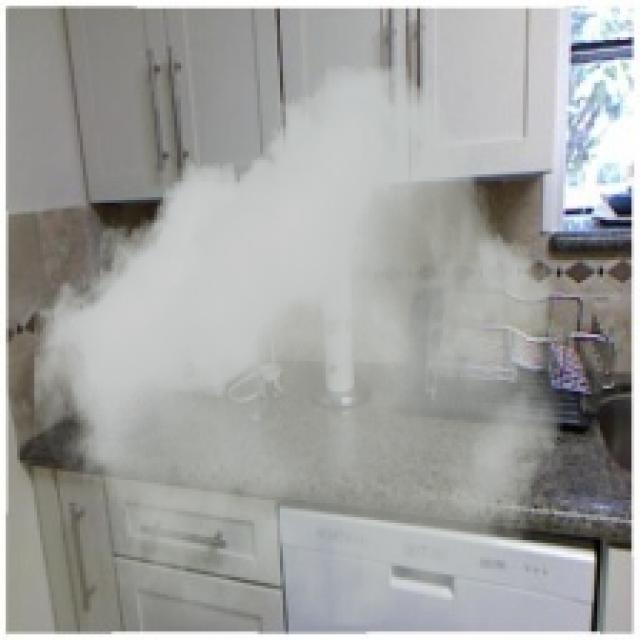Smoke: (34, 65, 563, 626)
